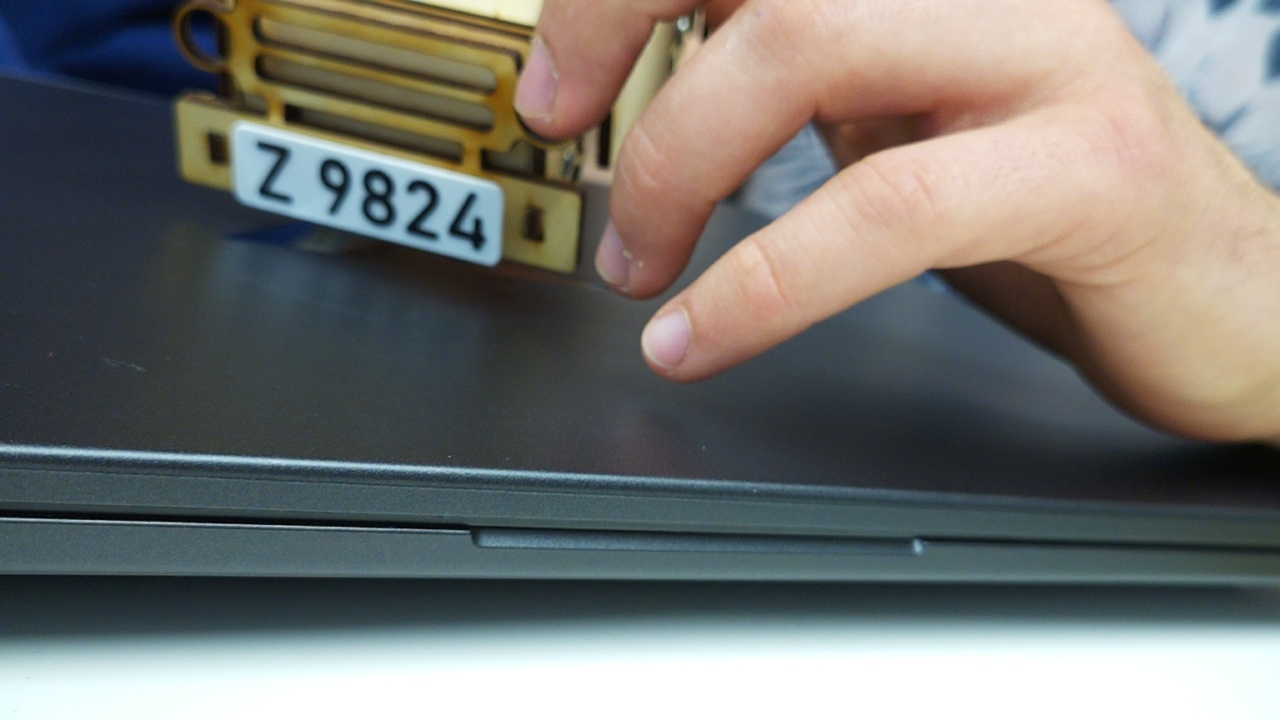license_plate: (227, 117, 507, 268)
